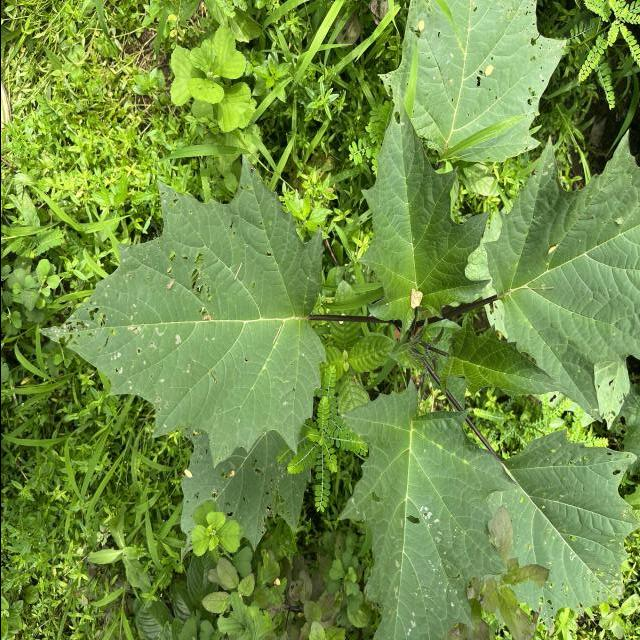Datura metal linn: (33, 148, 329, 472), (332, 373, 512, 640), (480, 127, 640, 426), (355, 78, 492, 342), (484, 424, 638, 637), (375, 0, 569, 165), (435, 312, 574, 403)
